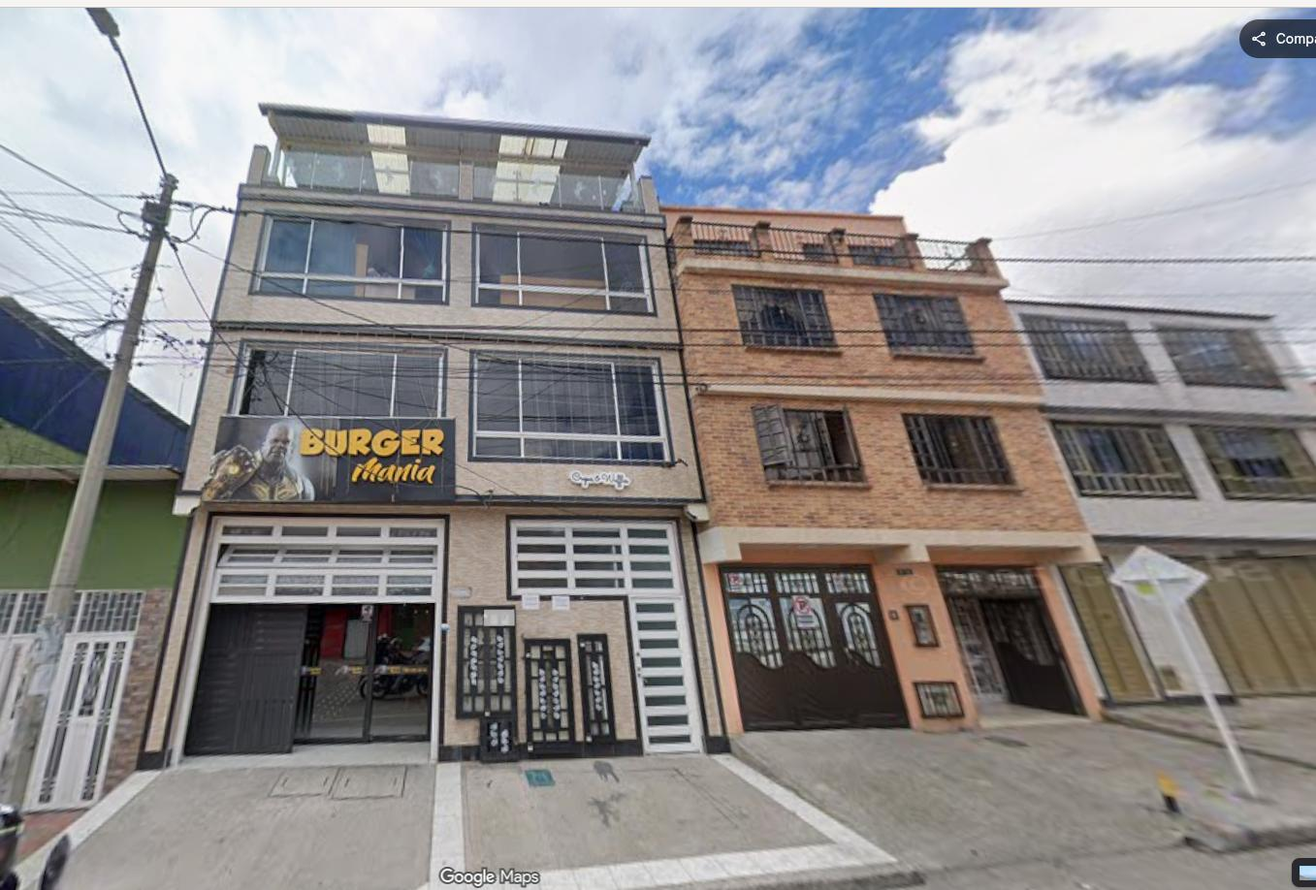casa: (143, 105, 726, 767), (660, 204, 1099, 733), (1007, 301, 1315, 703), (766, 440, 781, 467)
poste: (0, 8, 177, 803)
